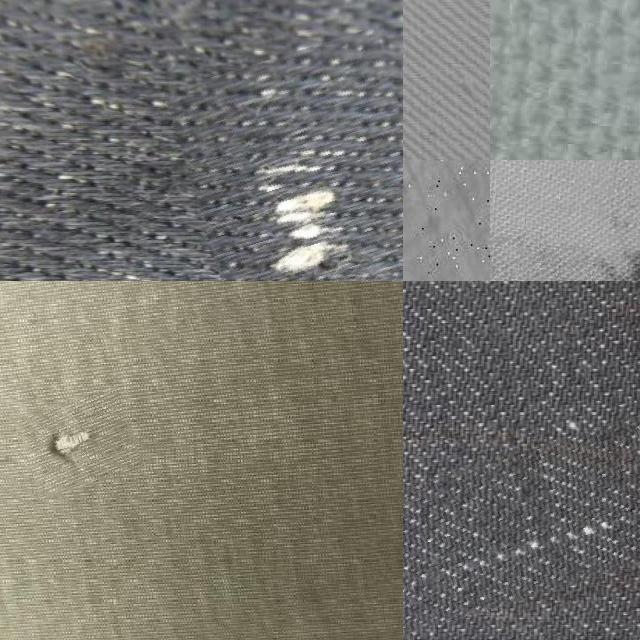Hole: (490, 201, 640, 281)
Thread_other: (184, 38, 403, 281), (403, 413, 640, 609)
seam: (21, 391, 139, 493)
